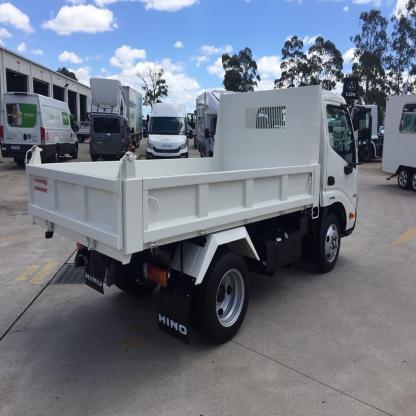dump_truck: (24, 84, 364, 355)
